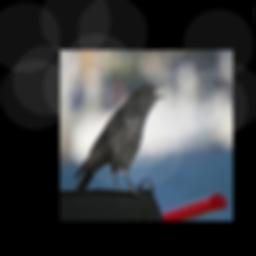Crow: (72, 80, 167, 199)
